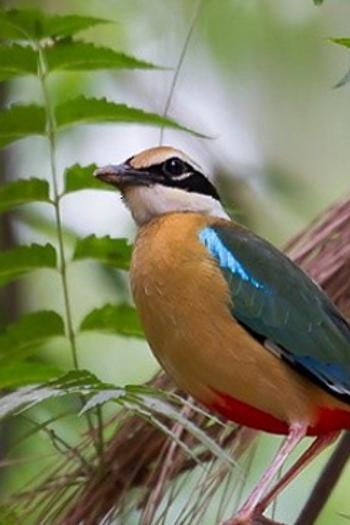pitta: (97, 143, 340, 481)
